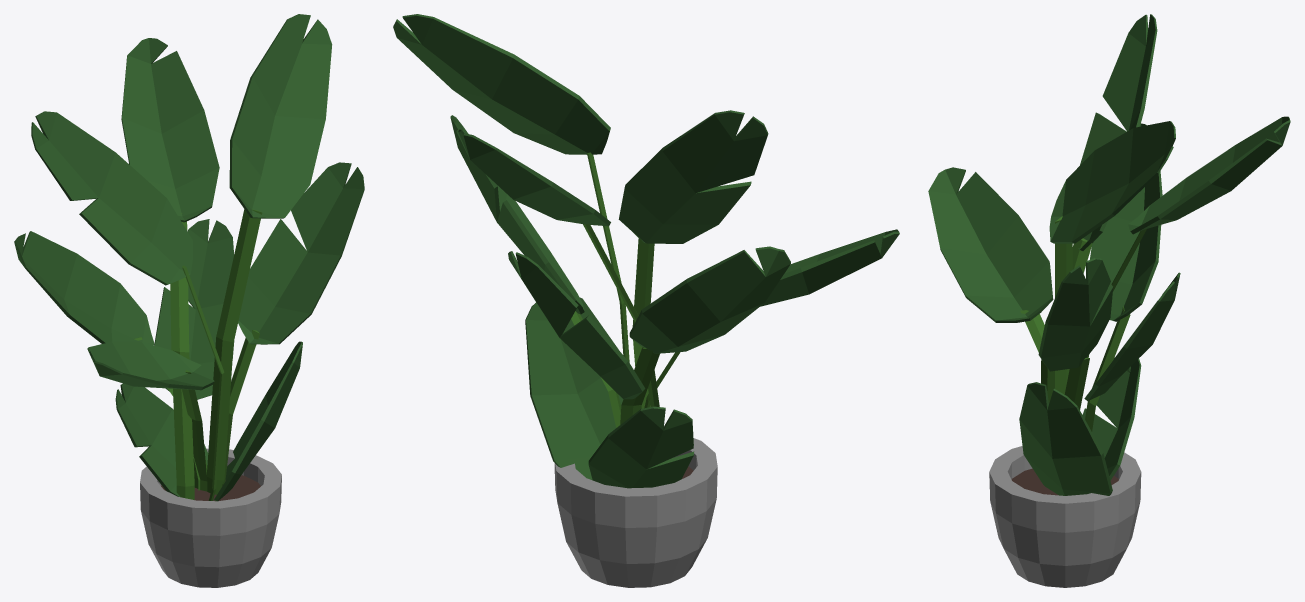
File: Houseplant.fbx
The picture shows the model from 3 angles, left to right: view 1: azimuth 30°, elevation 25°; view 2: azimuth 150°, elevation 25°; view 3: azimuth 270°, elevation 25°; orthographic projection. The views are drawn at different scales.
Visible parts, largest first — view 1: leaf.003, pot, leaf.008, leaf.004, leaf.005, leaf.006, leaf.011, stem, leaf.007, leaf.010, stem.001, leaf.009 (+3 smaller); view 2: pot, leaf.003, leaf.008, leaf.009, leaf.006, leaf.010, leaf.011, leaf.004, leaf.007, leaf.005, stem.005, stem (+2 smaller); view 3: pot, leaf.007, leaf.003, leaf.009, leaf.005, leaf.004, leaf.006, leaf.008, leaf.010, leaf.011, stem, stem.003 (+2 smaller).
Part boxes in pixels (x1,y1,x2,y2): leaf.003: (229,14,332,218); pot: (140,448,281,587); leaf.008: (31,111,192,285); leaf.004: (121,38,219,222); leaf.005: (238,162,364,344); leaf.006: (14,231,154,344); leaf.011: (154,219,234,399); stem: (206,209,262,494); leaf.007: (87,341,214,390); leaf.010: (115,383,208,497); stem.001: (170,213,194,499); leaf.009: (213,341,302,501); pot: (554,438,717,587); leaf.003: (393,14,610,154); leaf.008: (618,110,768,243); leaf.009: (525,297,623,480); leaf.006: (629,246,790,353); leaf.010: (588,406,694,488); leaf.011: (508,251,645,399); leaf.004: (456,129,610,226); leaf.007: (760,229,899,306); leaf.005: (450,115,584,314); stem.005: (632,238,654,408); stem: (587,152,629,362); pot: (989,446,1141,587); leaf.007: (928,167,1053,322); leaf.003: (1049,121,1175,243); leaf.009: (1019,382,1112,495); leaf.005: (1038,258,1113,371); leaf.004: (1128,116,1290,234); leaf.006: (1090,123,1162,321); leaf.008: (1078,14,1157,250); leaf.010: (1082,358,1141,480); leaf.011: (1084,272,1180,400); stem: (1055,216,1072,394); stem.003: (1085,306,1130,431).
Size of the model in its own units: 3969 by 5421 by 3481.
